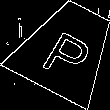P_NE: (36, 18, 97, 80)
